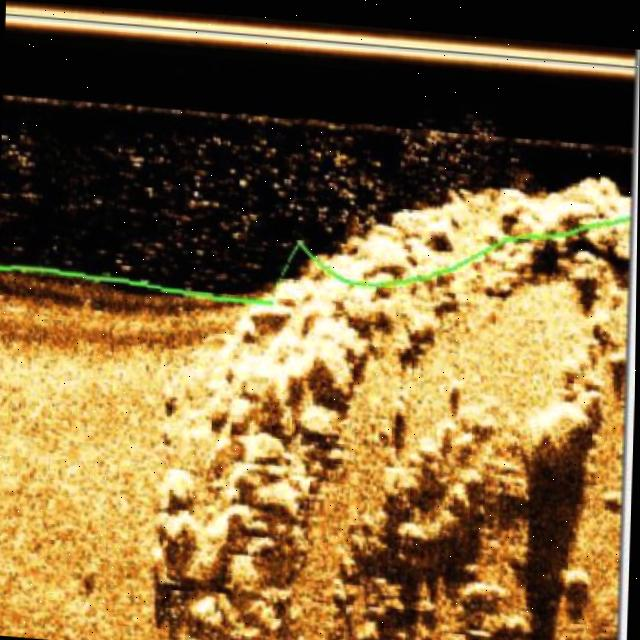bedrock group: (150, 137, 638, 640)
